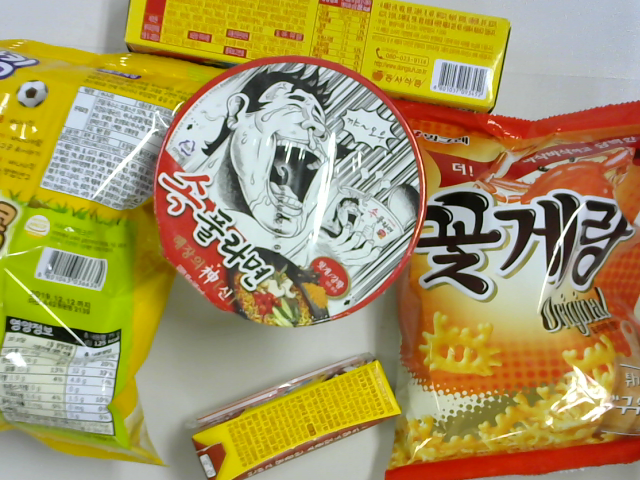Banana_Kick: (1, 69, 209, 425)
Choco_E_Mong: (183, 341, 396, 474)
Crabrang: (370, 107, 639, 480)
Hejangpul: (132, 48, 414, 316)
Ritz_Remon_96g: (113, 1, 513, 112)
